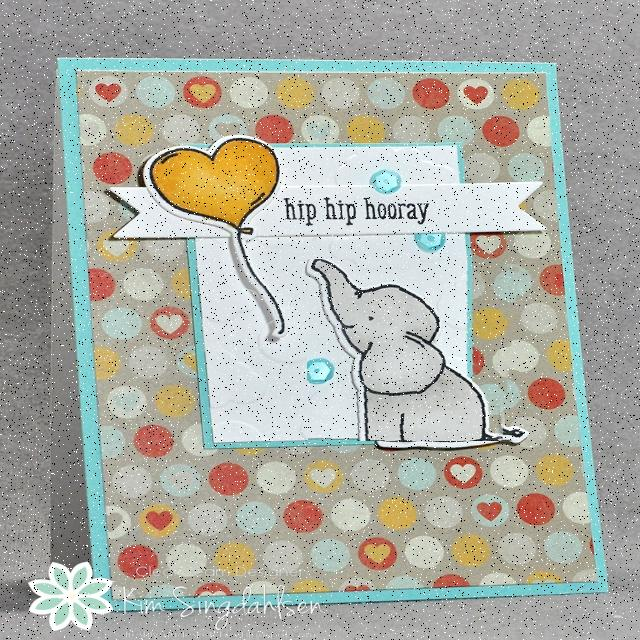elephant: (307, 259, 519, 442)
